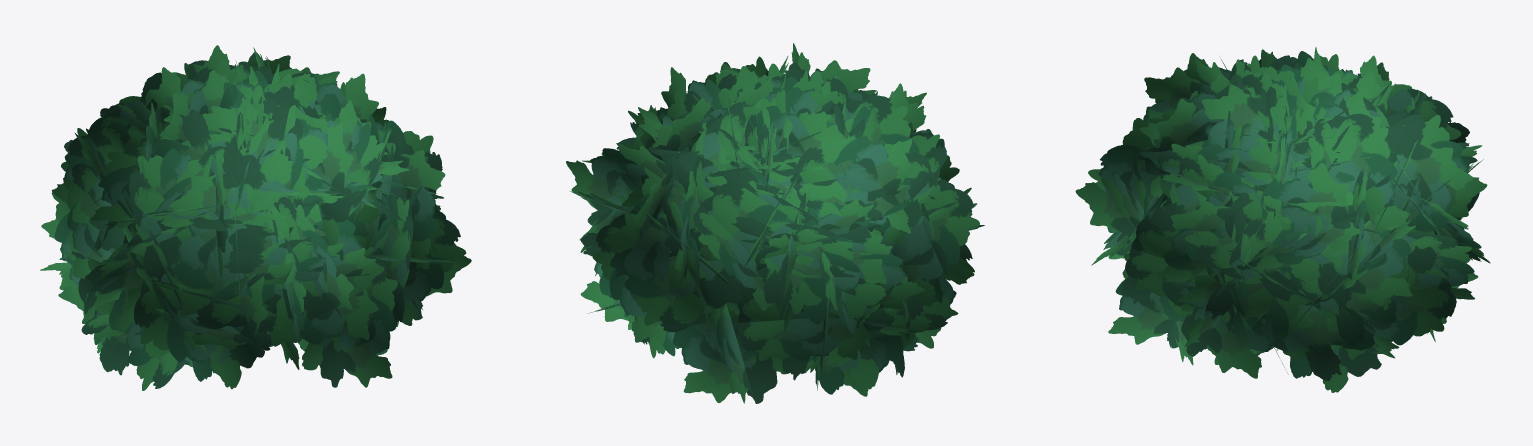
The model's file is bush_1.fbx.
The picture shows the model from 3 angles, left to right: view 1: azimuth 30°, elevation 25°; view 2: azimuth 150°, elevation 25°; view 3: azimuth 270°, elevation 25°; orthographic projection.
Parts seen in each view (by area): view 1: Leaves; view 2: Leaves; view 3: Leaves.
Part boxes in pixels (x1=…): Leaves: x1=40, y1=45, x2=471, y2=390; Leaves: x1=566, y1=43, x2=984, y2=403; Leaves: x1=1075, y1=47, x2=1490, y2=392.
Bounding box in the file's own units: 246 × 192 × 242.
